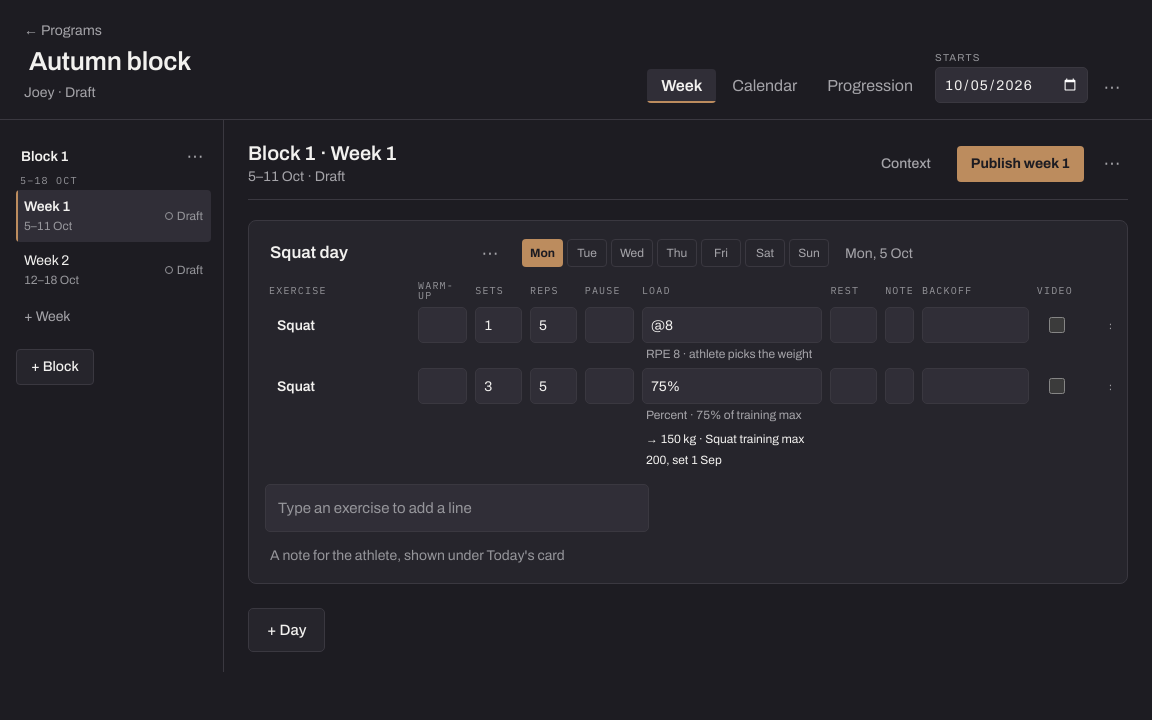
Test: the context drawer › opens beside the week with their last logged week and the clips this coach has not cleared
Click the button "Context". click: (906,164)
box: [867,146,945,182]
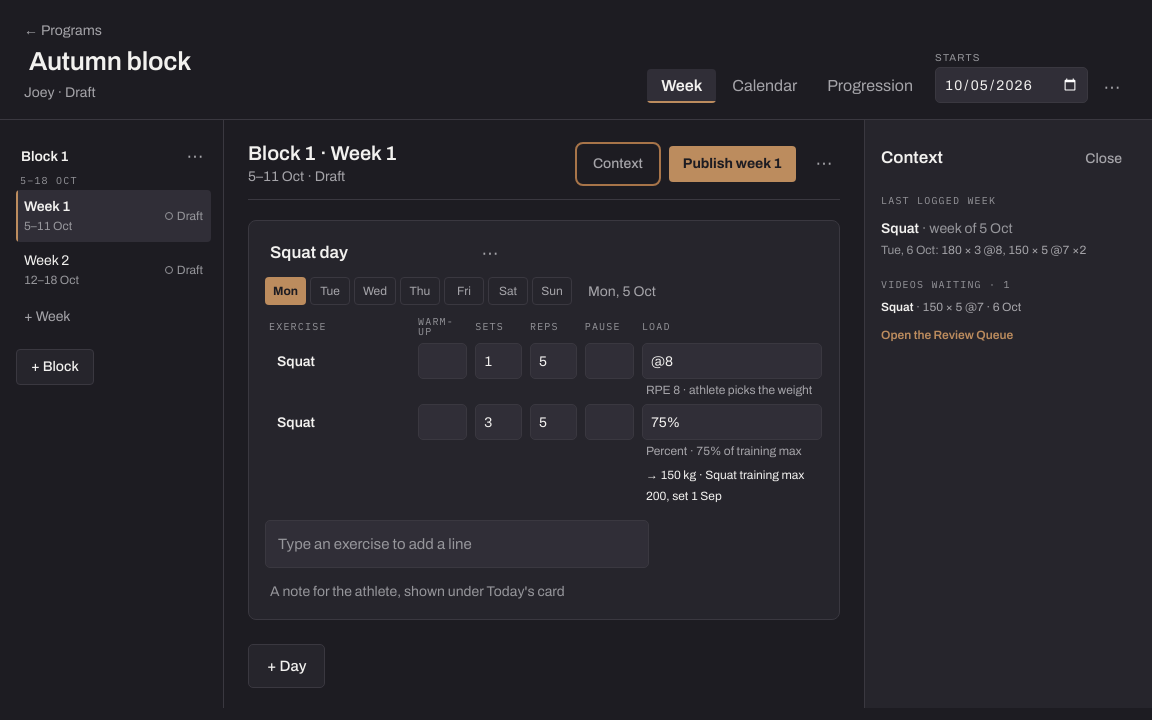
Check: the text "180 × 3 @8, 150 × 5 @7 ×2" is shown, box [941,243,1086,257]
Check: the heading "Videos waiting · 1" is shown, box [881,278,1011,291]
